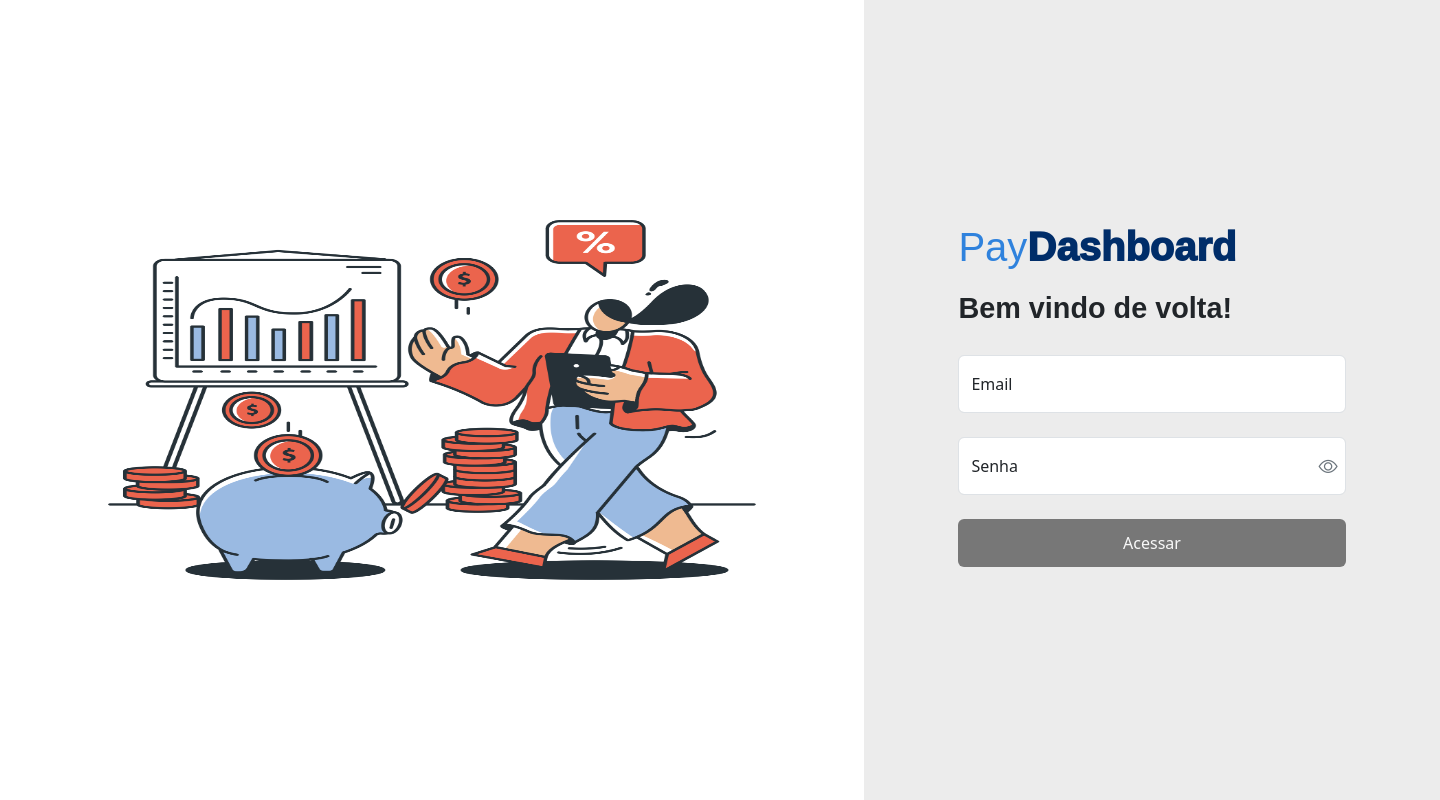
Test: Login Page › should show error message if e-mail not found
In the field named "email": (1152, 384) [958,355,1345,413], type "teste@gmail.com"
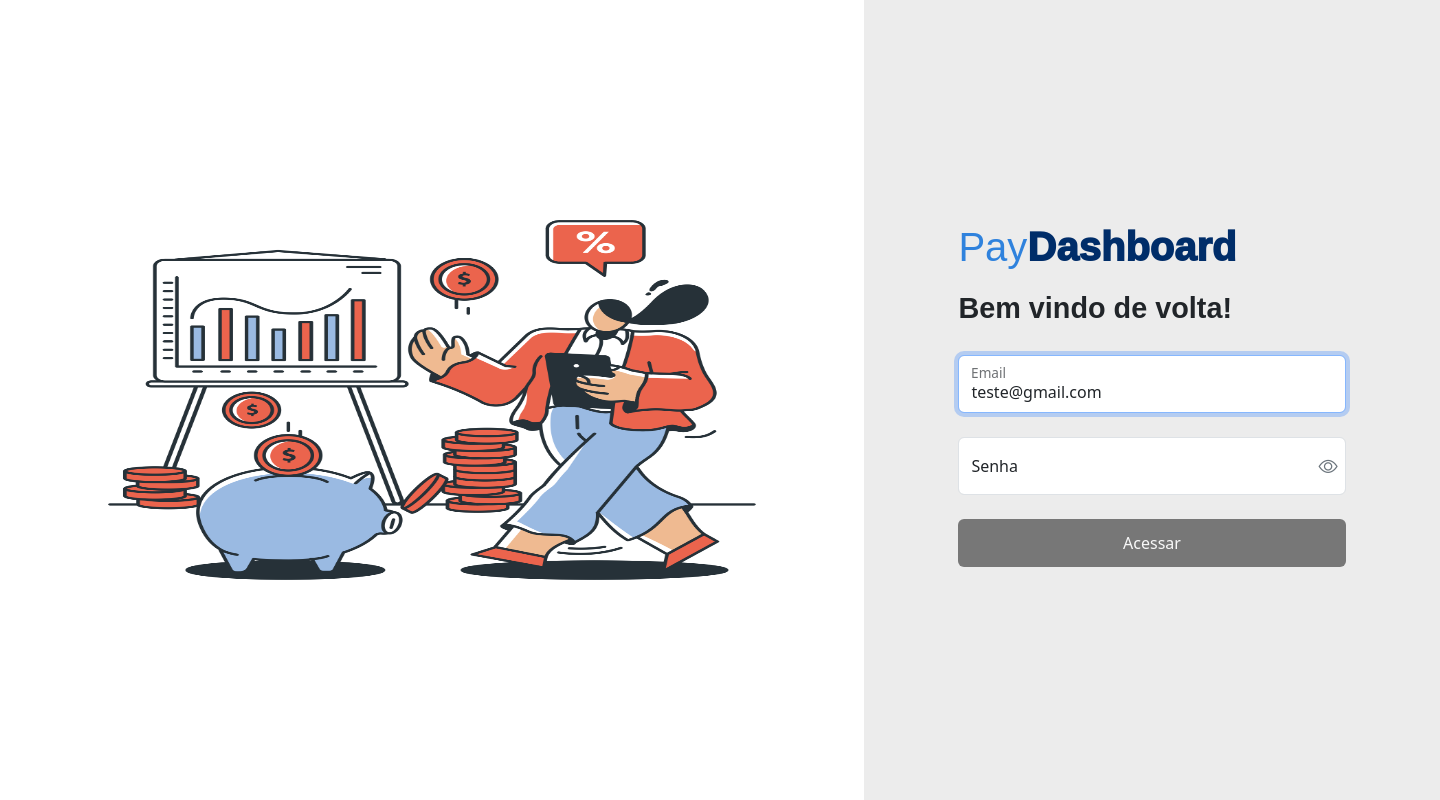
In the password field named "password": (1152, 466) [958,437,1345,495], type "testelogin"
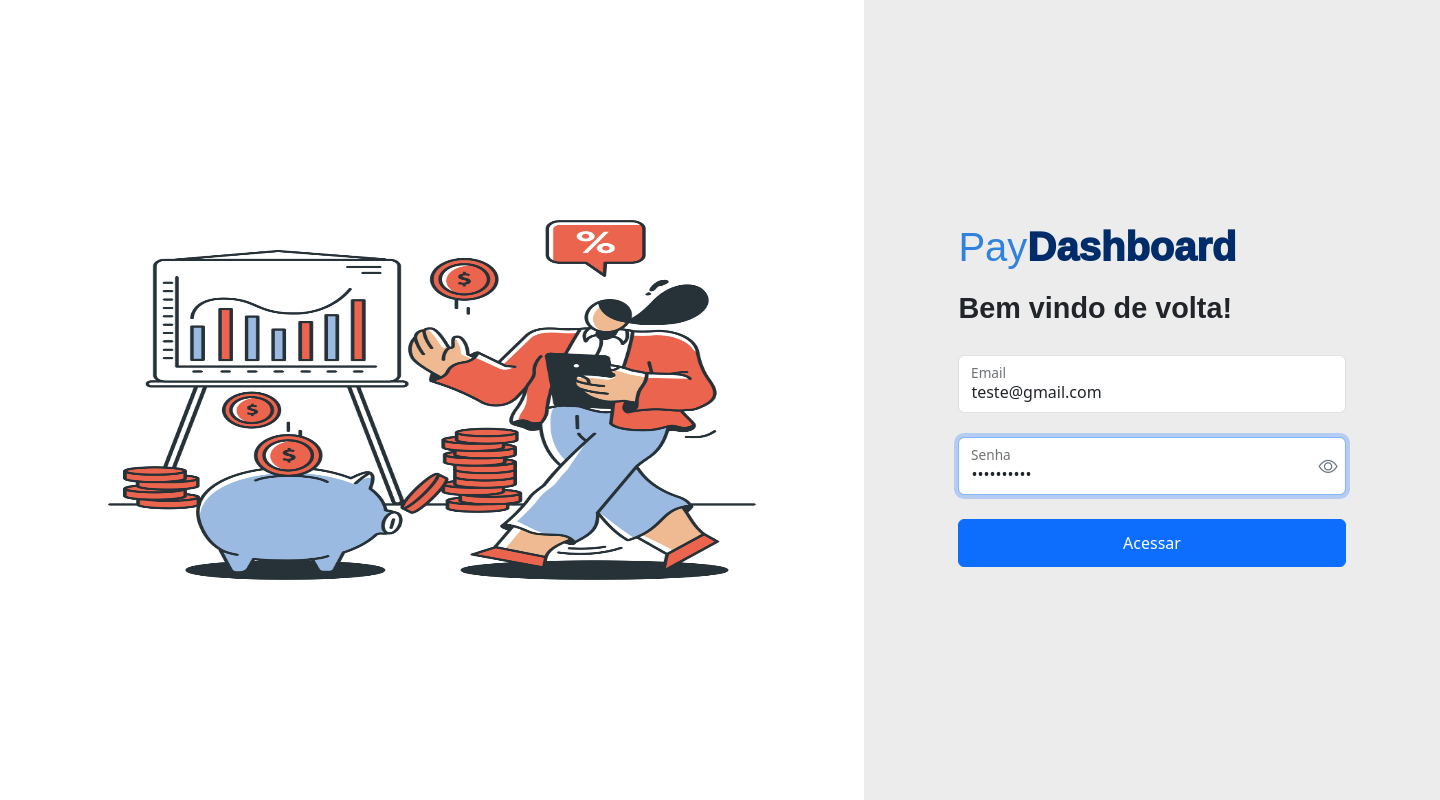
Check: the submit button is enabled
Click the submit button: click(1152, 543) [958,519,1345,567]
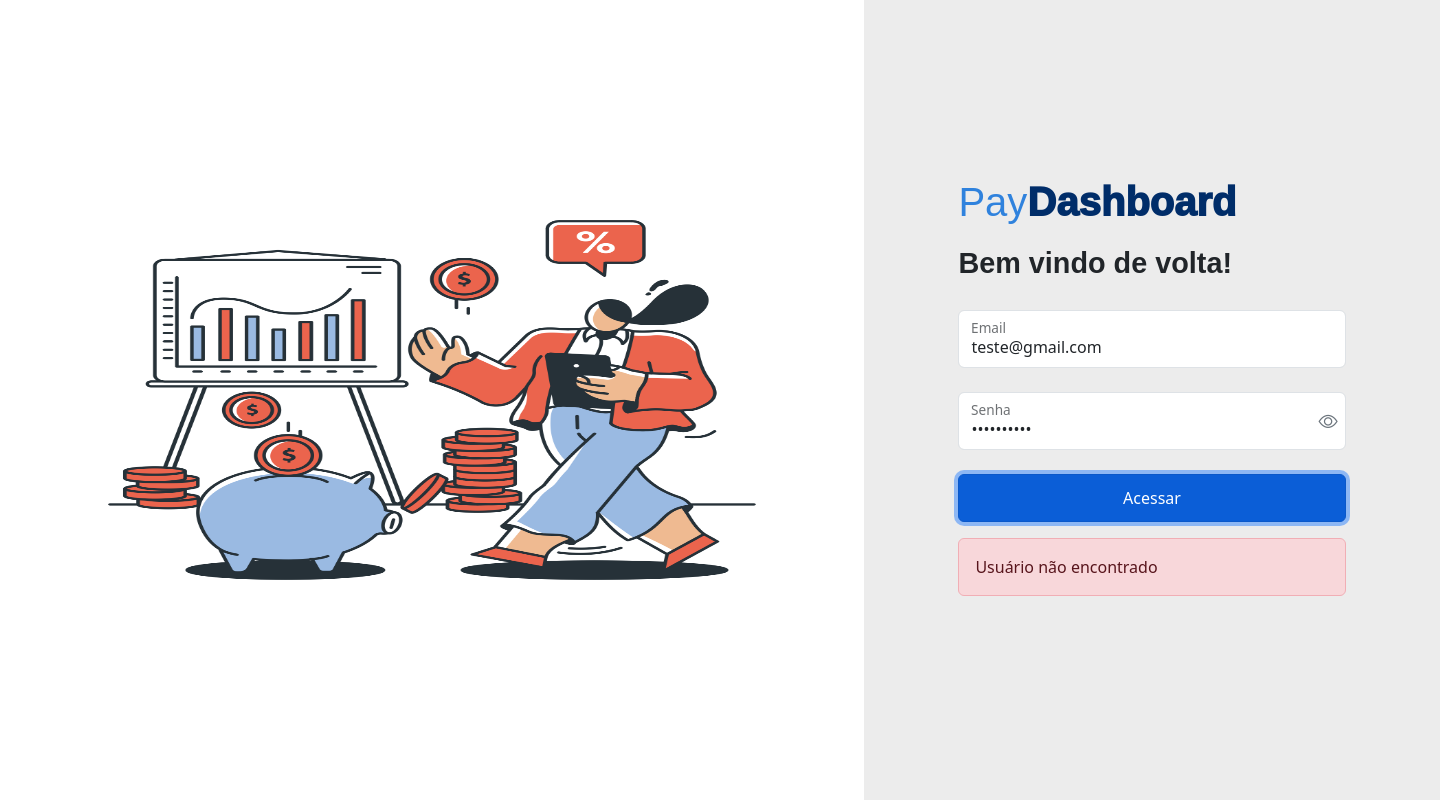
Check: the message "Usuário não encontrado" is shown, box [958,538,1346,596]
Check: the message with class "alert-danger" reads "Usuário não encontrado", box [958,538,1345,596]
